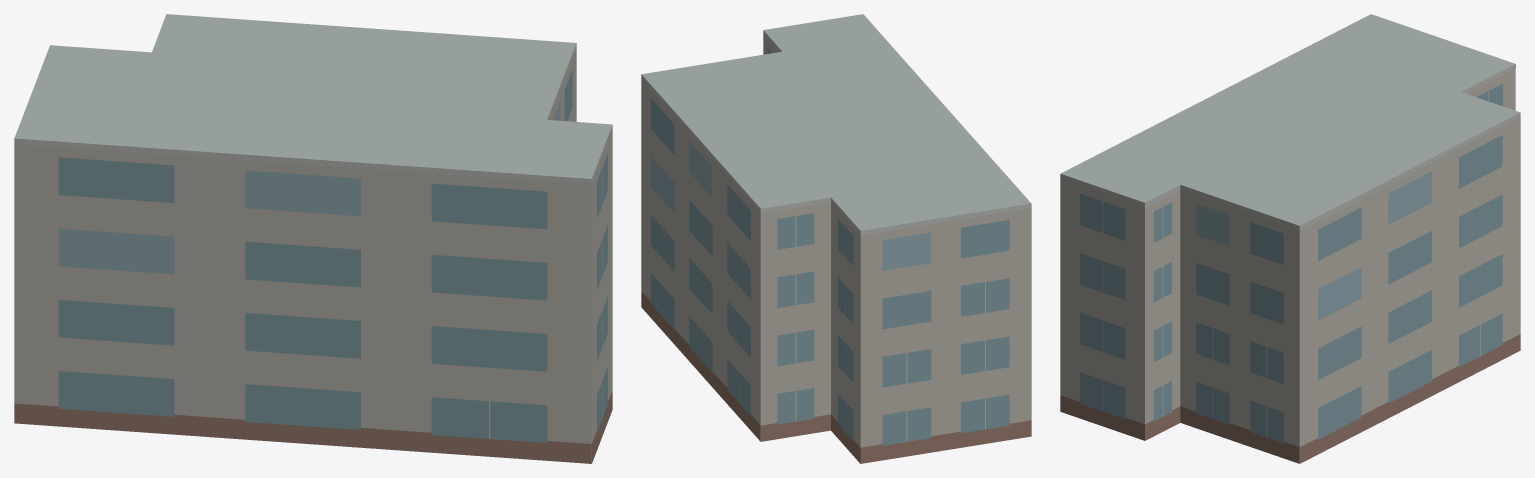
The model's file is survey-upis-32909352.glb.
3 renders of one model, left to right at view 1: azimuth 30°, elevation 25°; view 2: azimuth 150°, elevation 25°; view 3: azimuth 270°, elevation 25°, orthographic. The views are drawn at different scales.
Parts seen in each view (by area): view 1: survey-upis-32909352.tmp; view 2: survey-upis-32909352.tmp; view 3: survey-upis-32909352.tmp.
Boxes of the visible parts, x1,y1,x2,y2 form: survey-upis-32909352.tmp: (14,14,612,463); survey-upis-32909352.tmp: (641,14,1031,463); survey-upis-32909352.tmp: (1060,14,1520,463).
Size of the model in its own units: 23.48 by 12.3 by 21.56.
